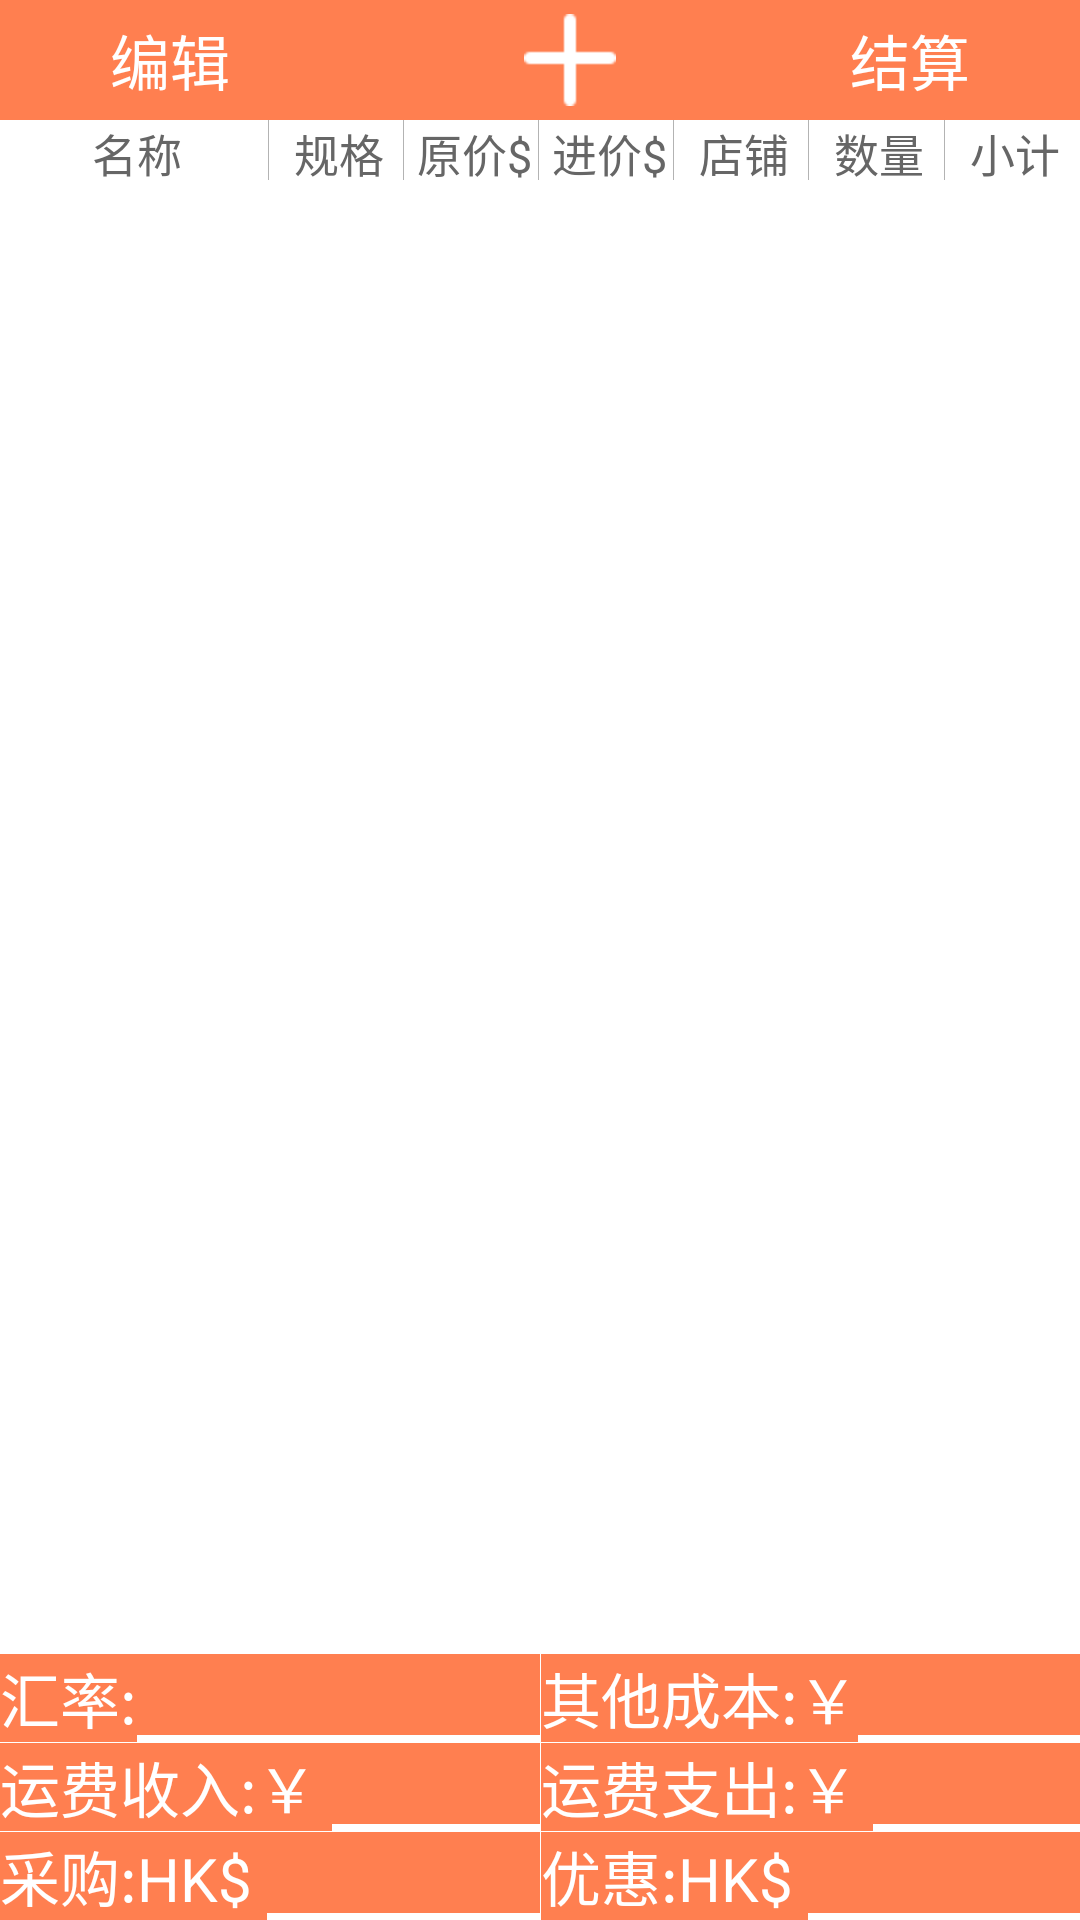

Where to tap for icons on this 1080×1920 app screen, as (x,y):
add: (570,60)
